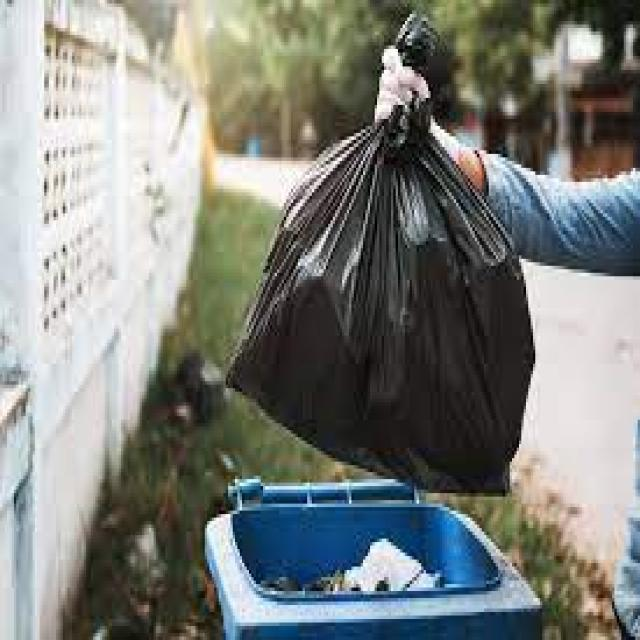Vinyl: (223, 0, 538, 500), (260, 532, 447, 596)
